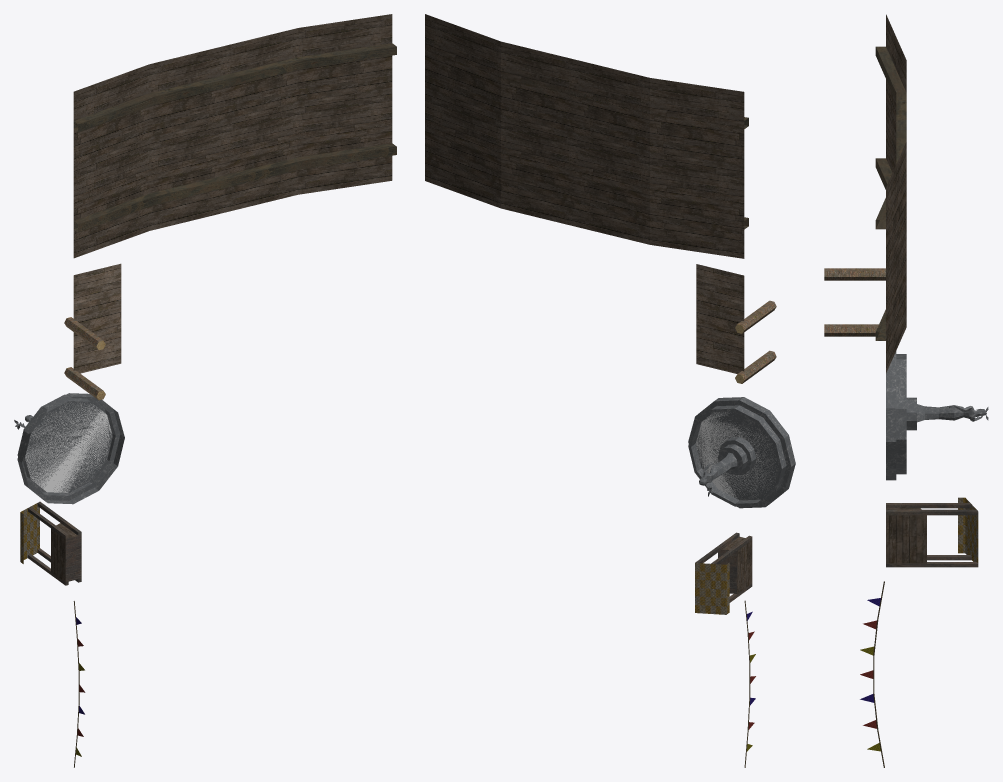
File: CityThings.fbx
3 renders of one model, left to right at view 1: azimuth 30°, elevation 25°; view 2: azimuth 150°, elevation 25°; view 3: azimuth 270°, elevation 25°, orthographic. The views are drawn at different scales.
Parts seen in each view (by area): view 1: WoodBridge, Spring, Wood_Walkway, Water, MarketStall; view 2: WoodBridge, Spring, Wood_Walkway, MarketStall, Water; view 3: WoodBridge, MarketStall, Spring, Wood_Walkway, Girlande.
Boxes of the visible parts, bbox=[...] form: WoodBridge: bbox=[73, 14, 396, 258]; Spring: bbox=[14, 393, 124, 504]; Wood_Walkway: bbox=[64, 263, 121, 400]; Water: bbox=[25, 402, 111, 492]; MarketStall: bbox=[20, 501, 81, 585]; WoodBridge: bbox=[425, 14, 748, 258]; Spring: bbox=[688, 397, 795, 508]; Wood_Walkway: bbox=[696, 264, 776, 383]; MarketStall: bbox=[695, 532, 752, 614]; Water: bbox=[695, 412, 776, 499]; WoodBridge: bbox=[875, 14, 906, 373]; MarketStall: bbox=[886, 497, 978, 567]; Spring: bbox=[886, 351, 988, 480]; Wood_Walkway: bbox=[824, 268, 885, 336]; Girlande: bbox=[860, 581, 884, 767].
Bounding box in the file's own units: 1161 × 2025 × 399.
